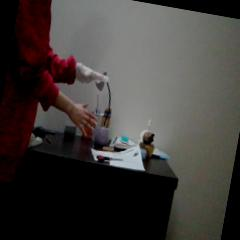gloved: (72, 64, 110, 88)
not-gloved: (64, 101, 100, 140)
